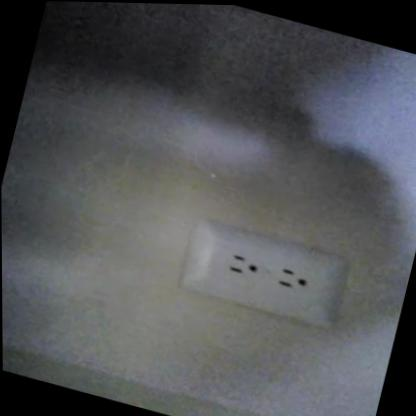OUTLET: (176, 215, 353, 334)
